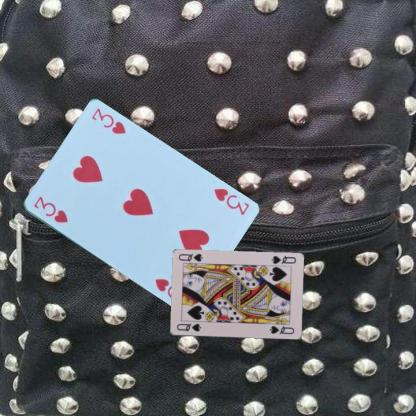3h: (210, 186, 251, 216), (30, 194, 68, 224)
Qs: (269, 253, 297, 265), (174, 321, 202, 332)
